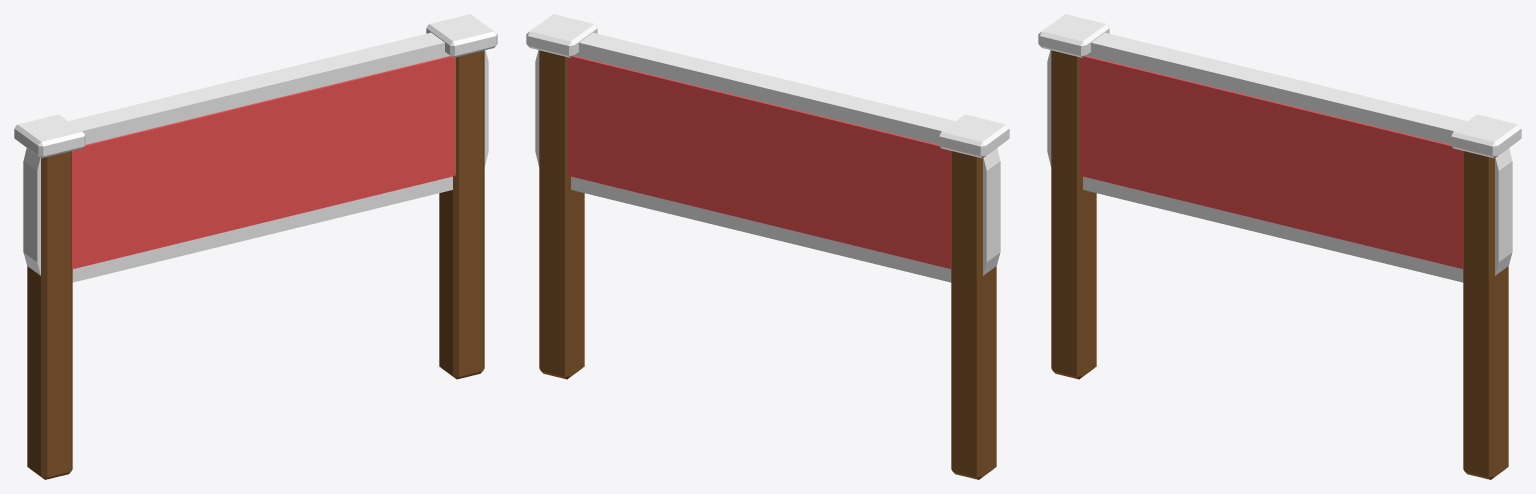
The model's file is plot_sign.fbx.
3 views of the same model, side by side, from view 1: azimuth 30°, elevation 25°; view 2: azimuth 150°, elevation 25°; view 3: azimuth 330°, elevation 25° (orthographic).
Visible parts, largest first — view 1: prism.001, prism, Cube, Cube.002, Cube.001, Cube.003; view 2: prism.001, prism, Cube, Cube.002, Cube.001, Cube.003; view 3: prism.001, prism, Cube.002, Cube, Cube.003, Cube.001.
Boxes of the visible parts, x1,y1,x2,y2 form: prism.001: (72, 56, 455, 268); prism: (23, 32, 488, 282); Cube: (27, 151, 72, 479); Cube.002: (439, 50, 484, 379); Cube.001: (14, 114, 85, 158); Cube.003: (426, 14, 497, 57); prism.001: (568, 56, 951, 268); prism: (535, 32, 1000, 282); Cube: (951, 151, 996, 479); Cube.002: (539, 50, 584, 379); Cube.001: (938, 114, 1009, 158); Cube.003: (526, 14, 597, 57); prism.001: (1080, 56, 1463, 268); prism: (1047, 32, 1512, 282); Cube.002: (1463, 151, 1508, 479); Cube: (1051, 50, 1096, 379); Cube.003: (1450, 114, 1521, 158); Cube.001: (1038, 14, 1109, 57).
Size of the model in its own units: 11.6 by 8.3 by 1.2.
